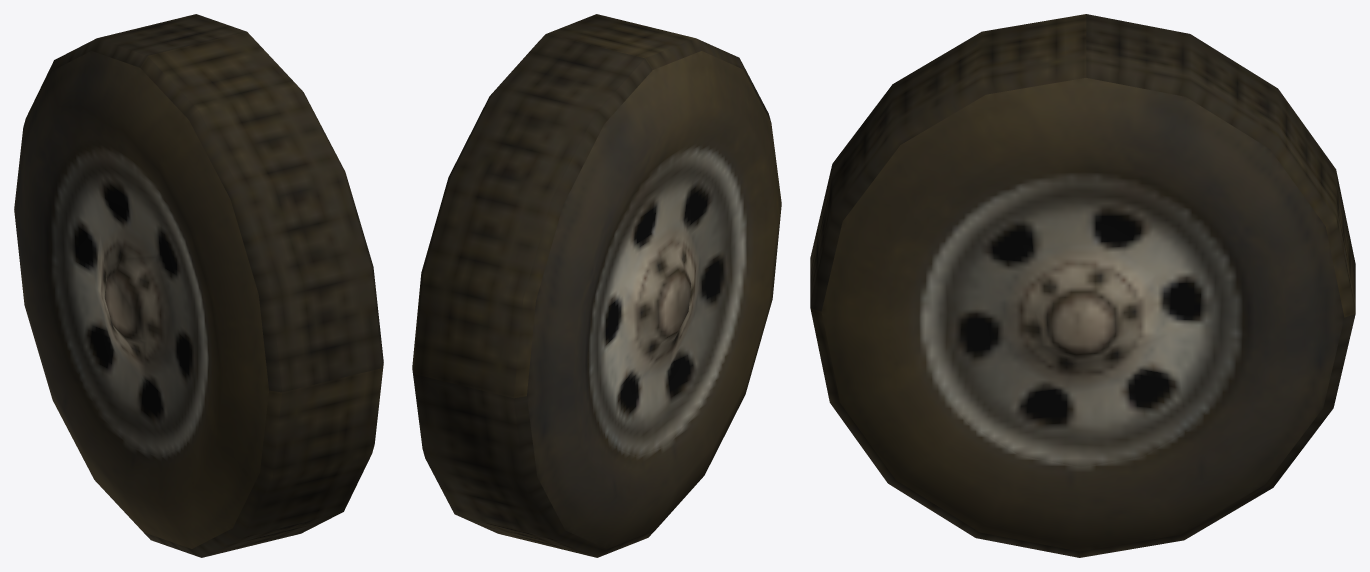
The model's file is dumptruck_wheel.obj.
3 views of the same model, side by side, from view 1: azimuth 30°, elevation 25°; view 2: azimuth 150°, elevation 25°; view 3: azimuth 270°, elevation 25° (orthographic). The views are drawn at different scales.
Parts seen in each view (by area): view 1: Jeep.002; view 2: Jeep.002; view 3: Jeep.002.
Part boxes in pixels (x1,y1,x2,y2): Jeep.002: (14, 14, 383, 557); Jeep.002: (412, 14, 781, 557); Jeep.002: (810, 14, 1355, 557).
Bounding box in the file's own units: 0.6834 × 2 × 2.
Materials: 1 (1 with a texture image).
